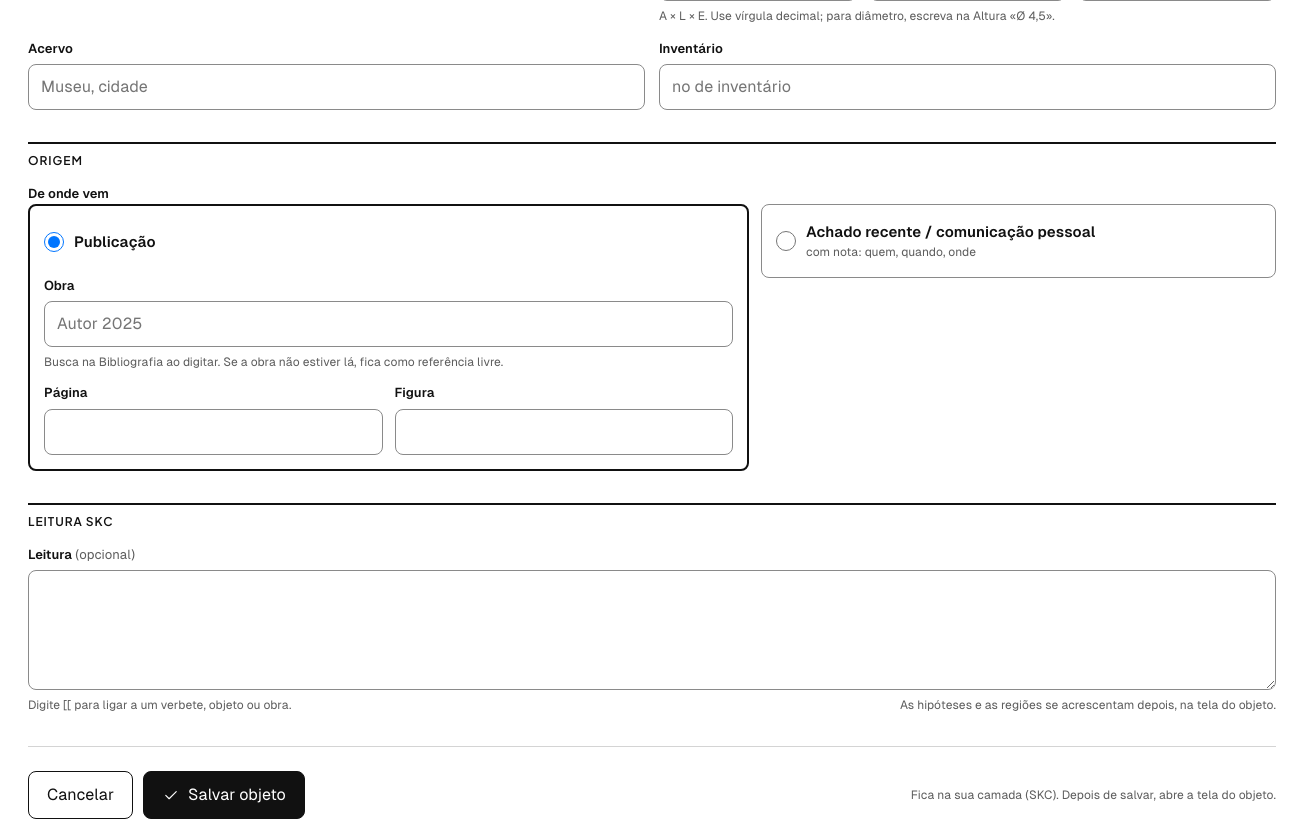
Test: NovoObjeto › sem período escolhido, "Salvar objeto" mostra o erro em linha e leva o foco aos períodos (o botão nunca fica desabilitado)
This screenshot has width=1292, height=836.
(page scrolled)
Click the button "Salvar objeto": point(224, 796) x1=143 y1=772 x2=305 y2=820
(page scrolled)
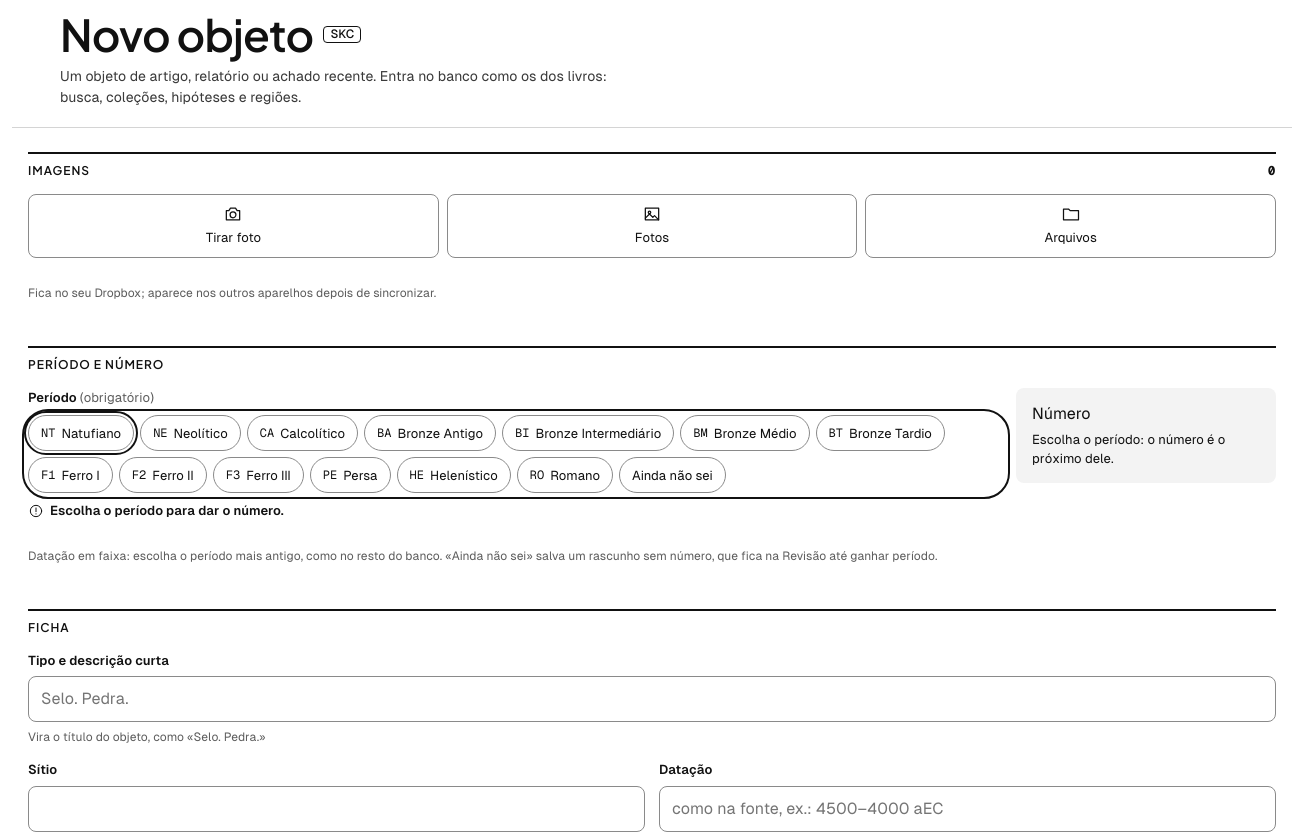
Check: the message "Escolha o período para dar o número." is shown, box x1=28 y1=503 x2=284 y2=519
Note: O erro some ao escolher um período.
Click the radio button labelled "CA Calcolítico": point(302, 434) x1=247 y1=416 x2=358 y2=452
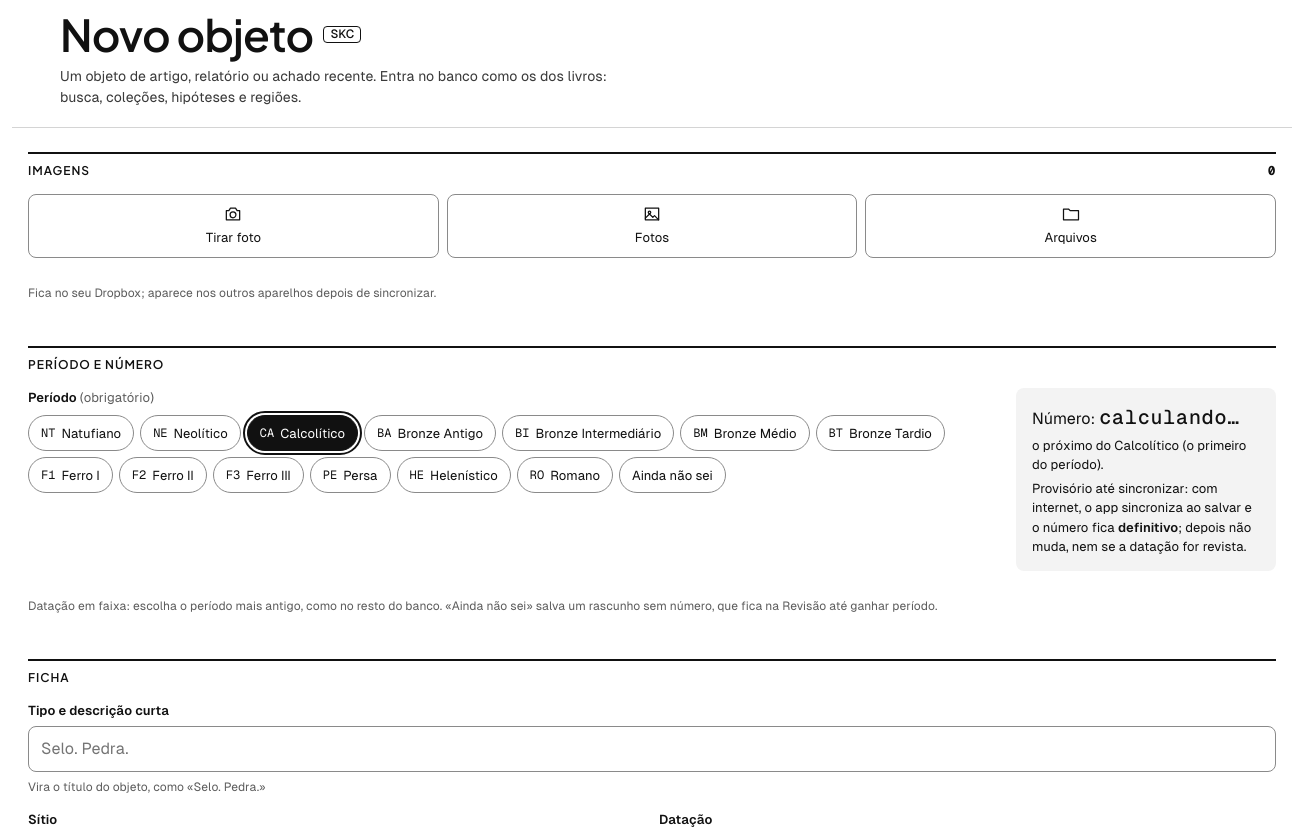
Check: the message "Escolha o período para dar o número." is gone
